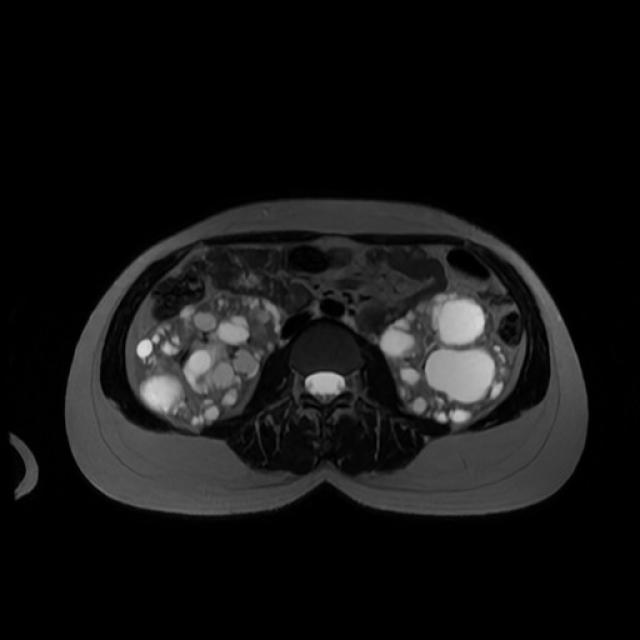sag: (139, 289, 280, 423)
sol: (382, 289, 509, 423)
